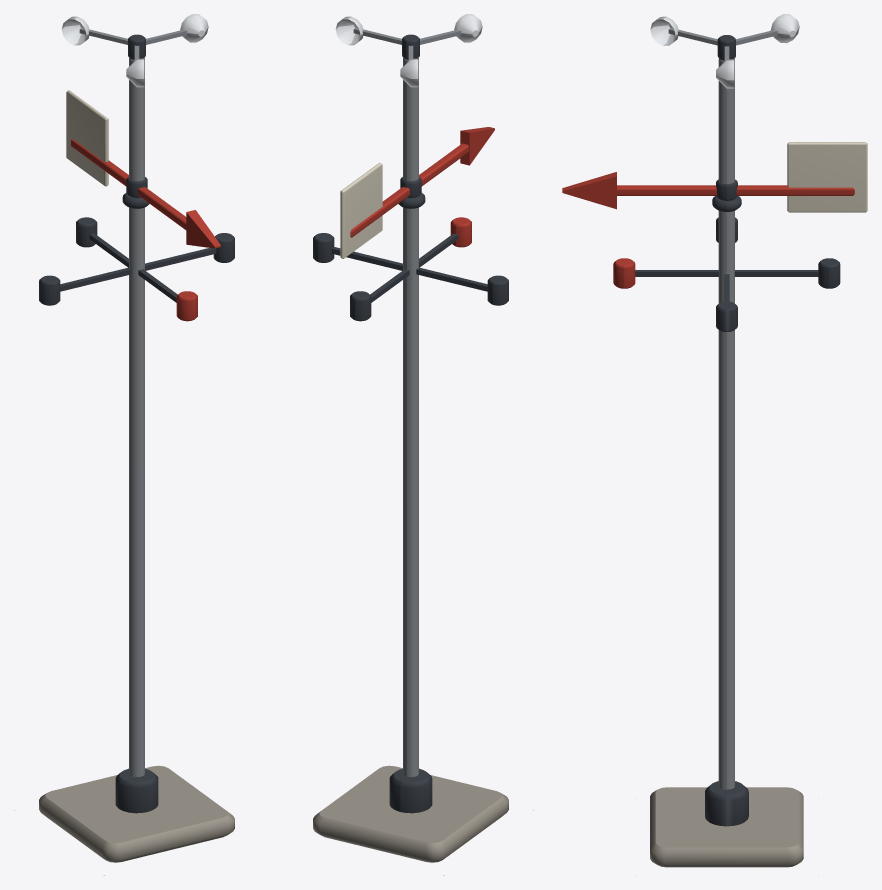
Rendered from girouette.glb.
3 views of the same model, side by side, from view 1: azimuth 30°, elevation 25°; view 2: azimuth 150°, elevation 25°; view 3: azimuth 270°, elevation 25° (orthographic).
Visible parts, largest first — view 1: pieces_meteo_mat.004, pieces_meteo_dalle.002, pieces_meteo_cadre.004, fleche_meteo_empennage.002, fleche_meteo_fleche.002, anemometre_meteo_boitier.002, anemometre_meteo_mat.002, pieces_meteo_fleche.002; view 2: pieces_meteo_mat.004, pieces_meteo_dalle.002, pieces_meteo_cadre.004, fleche_meteo_empennage.002, fleche_meteo_fleche.002, anemometre_meteo_boitier.002, anemometre_meteo_mat.002, pieces_meteo_fleche.002; view 3: pieces_meteo_mat.004, pieces_meteo_dalle.002, fleche_meteo_empennage.002, pieces_meteo_cadre.004, fleche_meteo_fleche.002, anemometre_meteo_boitier.002, anemometre_meteo_mat.002, pieces_meteo_fleche.002.
Boxes of the visible parts, bbox=[...] form: pieces_meteo_mat.004: bbox=[129, 58, 144, 777]; pieces_meteo_dalle.002: bbox=[39, 765, 234, 862]; pieces_meteo_cadre.004: bbox=[39, 193, 234, 813]; fleche_meteo_empennage.002: bbox=[66, 90, 108, 186]; fleche_meteo_fleche.002: bbox=[71, 139, 220, 248]; anemometre_meteo_boitier.002: bbox=[61, 14, 208, 87]; anemometre_meteo_mat.002: bbox=[79, 27, 187, 60]; pieces_meteo_fleche.002: bbox=[176, 291, 197, 321]; pieces_meteo_mat.004: bbox=[403, 58, 418, 777]; pieces_meteo_dalle.002: bbox=[313, 765, 508, 862]; pieces_meteo_cadre.004: bbox=[313, 193, 508, 813]; fleche_meteo_empennage.002: bbox=[340, 162, 382, 258]; fleche_meteo_fleche.002: bbox=[350, 127, 494, 237]; anemometre_meteo_boitier.002: bbox=[335, 14, 482, 87]; anemometre_meteo_mat.002: bbox=[353, 27, 461, 60]; pieces_meteo_fleche.002: bbox=[450, 217, 471, 247]; pieces_meteo_mat.004: bbox=[718, 58, 734, 790]; pieces_meteo_dalle.002: bbox=[650, 787, 803, 867]; fleche_meteo_empennage.002: bbox=[787, 142, 867, 212]; pieces_meteo_cadre.004: bbox=[635, 196, 840, 826]; fleche_meteo_fleche.002: bbox=[562, 172, 854, 209]; anemometre_meteo_boitier.002: bbox=[650, 14, 799, 88]; anemometre_meteo_mat.002: bbox=[668, 28, 777, 60]; pieces_meteo_fleche.002: bbox=[613, 258, 635, 288].
Size of the model in its own units: 0.62 by 2.43 by 0.835.
